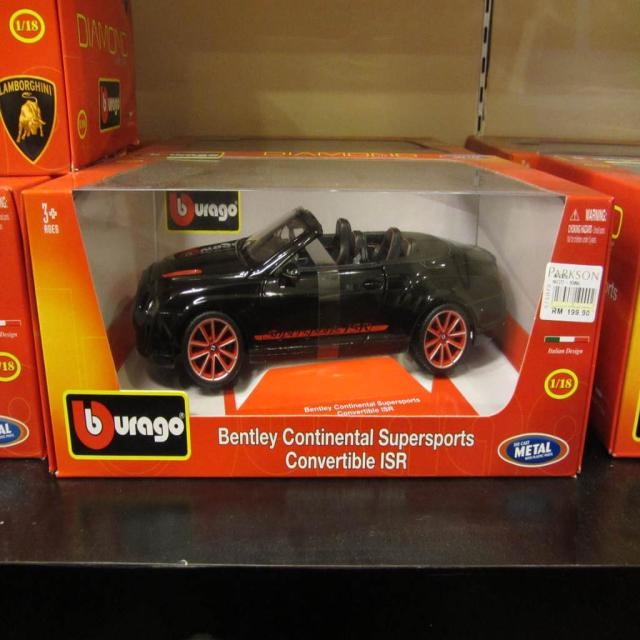car: (124, 196, 516, 397)
